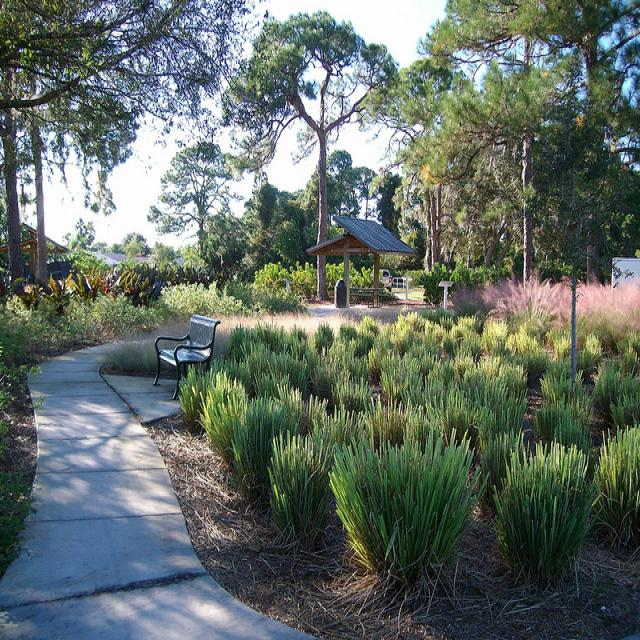Vehicle: (380, 269, 406, 285)
